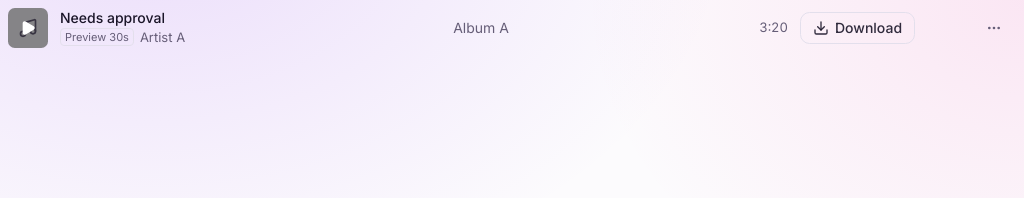
Test: starting a download › waiting for an admin (approval policy): nothing is queued, the toast says it was sent and the row stays 'Awaiting approval'
What coordinates should you click on to do the following:
click the button "Download"
I would click on:
 (858, 28)
Its box is [800,12,915,44].
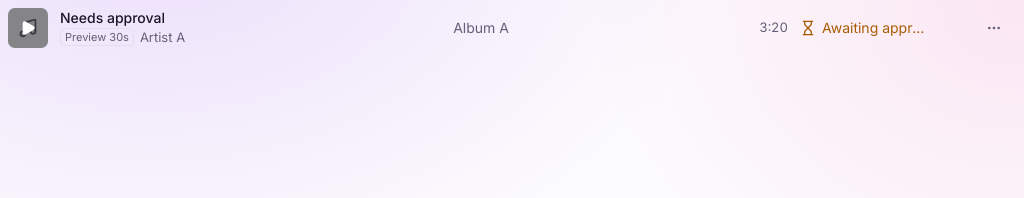
Expected: the text "Awaiting approval" is shown, [822,18,928,38]
Expected: the button "Download" is gone
